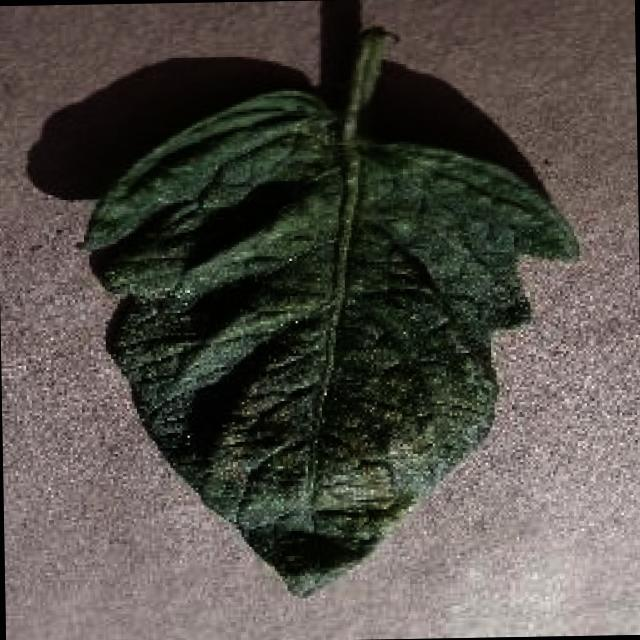Tomato spider mites leaf: (84, 85, 588, 599)
